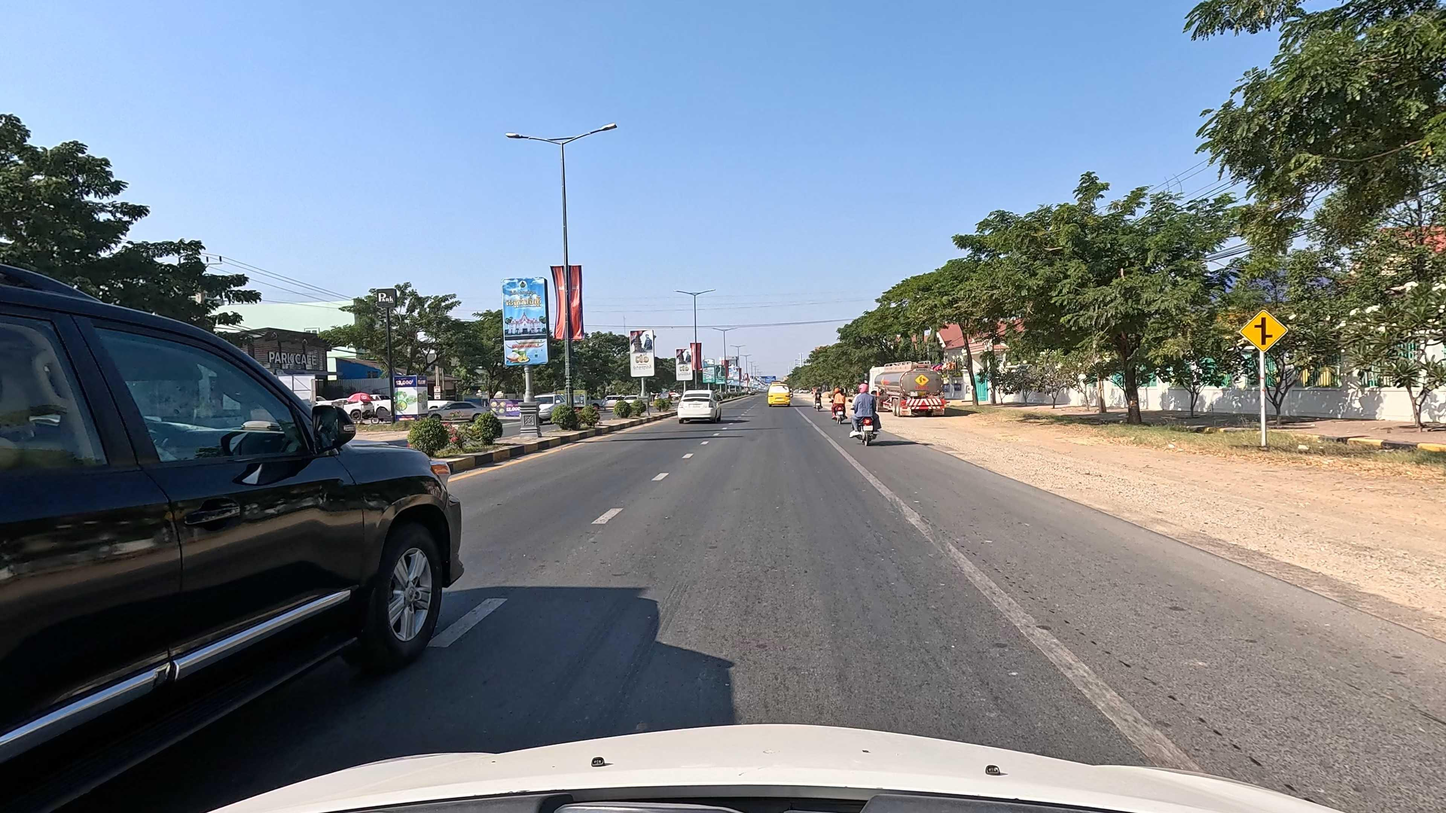offset_road_junction_left_right: (1240, 309, 1289, 351)
